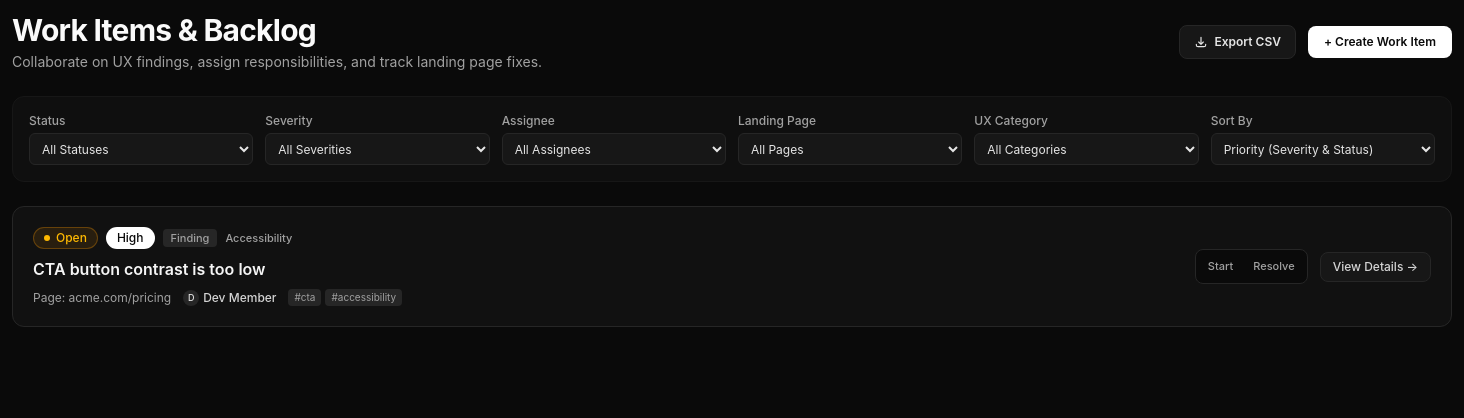
Test: CSV Export UI Components › WorkItemsBacklog CSV Export › displays error alert when export fails
The width and height of the screenshot is (1464, 418).
Expected: the heading "CTA button contrast is too low" is shown, [33,259,266,279]
Click the button "Export CSV". click: click(1238, 42)
box: [1179,25,1296,59]
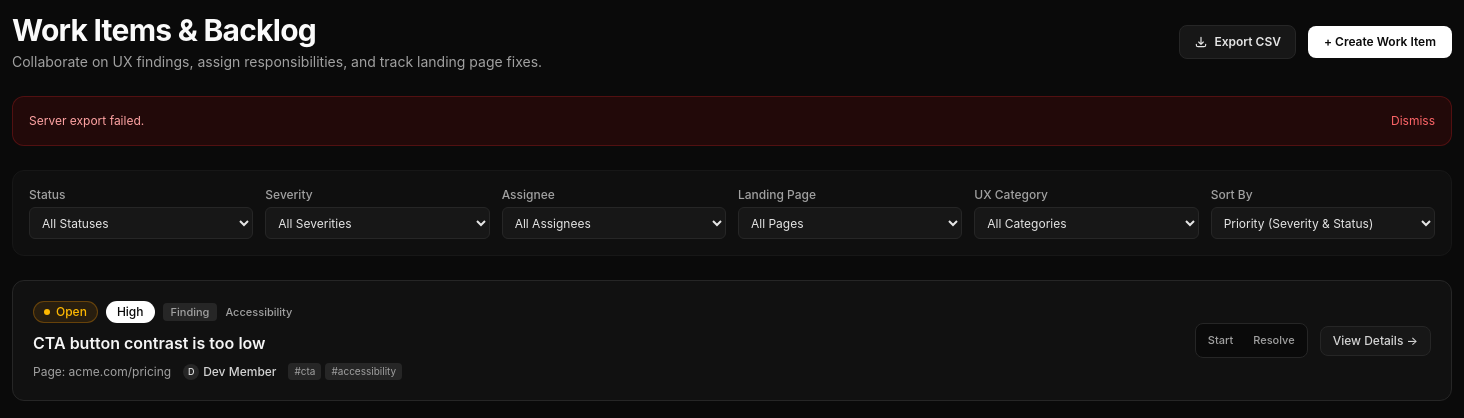
Now the message "Server export failed. Dismiss" is shown, box [12,96,1452,146]
Now the text "Server export failed." is shown, box [29,113,144,129]
